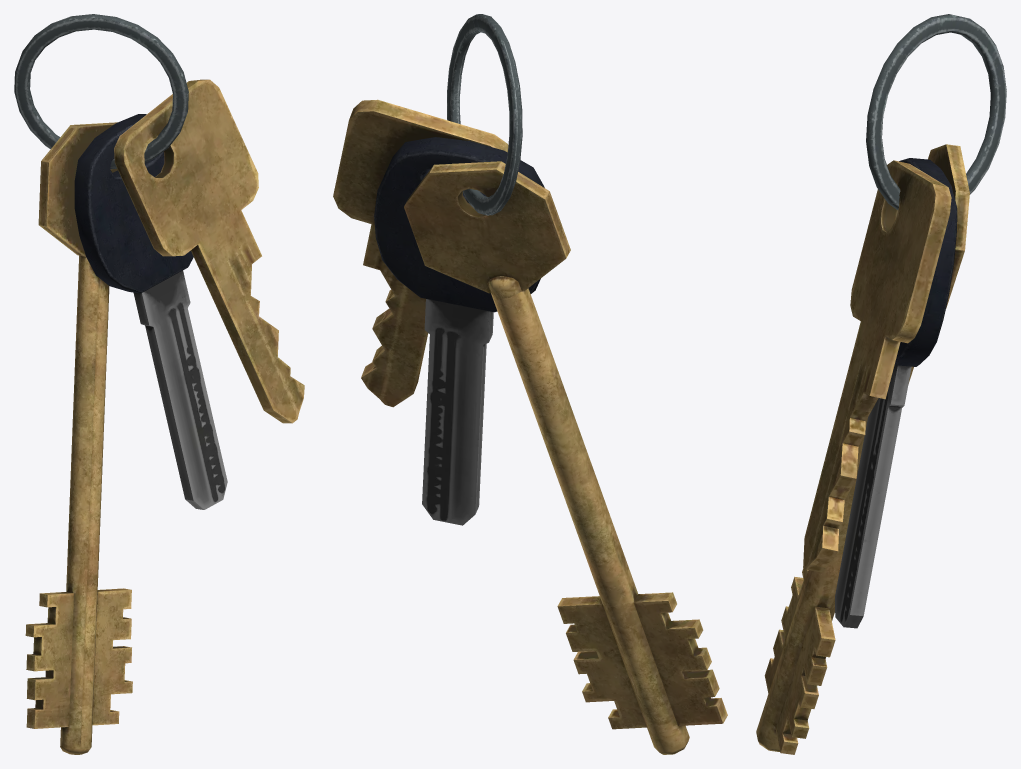
File: key1.glb
3 views of the same model, side by side, from view 1: azimuth 30°, elevation 25°; view 2: azimuth 150°, elevation 25°; view 3: azimuth 270°, elevation 25° (orthographic). The views are drawn at different scales.
Parts seen in each view (by area): view 1: defaultMaterial.003, defaultMaterial, defaultMaterial.002, defaultMaterial.001; view 2: defaultMaterial.003, defaultMaterial.002, defaultMaterial, defaultMaterial.001; view 3: defaultMaterial, defaultMaterial.003, defaultMaterial.002, defaultMaterial.001.
Boxes of the visible parts, x1,y1,x2,y2 form: defaultMaterial.003: (25, 122, 132, 754); defaultMaterial: (114, 79, 304, 423); defaultMaterial.002: (74, 114, 227, 509); defaultMaterial.001: (14, 14, 188, 169); defaultMaterial.003: (404, 161, 727, 754); defaultMaterial.002: (374, 137, 544, 525); defaultMaterial: (333, 99, 508, 407); defaultMaterial.001: (447, 14, 522, 215); defaultMaterial: (803, 160, 951, 572); defaultMaterial.003: (756, 144, 969, 754); defaultMaterial.002: (835, 158, 957, 628); defaultMaterial.001: (866, 14, 1006, 209).
Bounding box in the file's own units: 0.592 × 1.28 × 0.3719.
4 materials, 4 textured.
